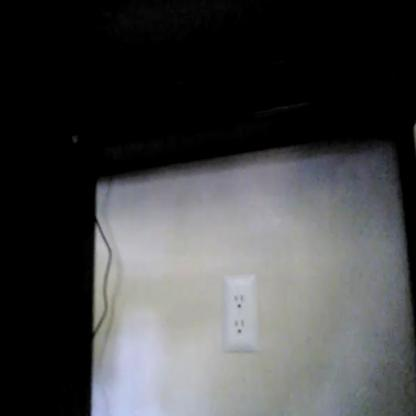OUTLET: (223, 276, 256, 350)
